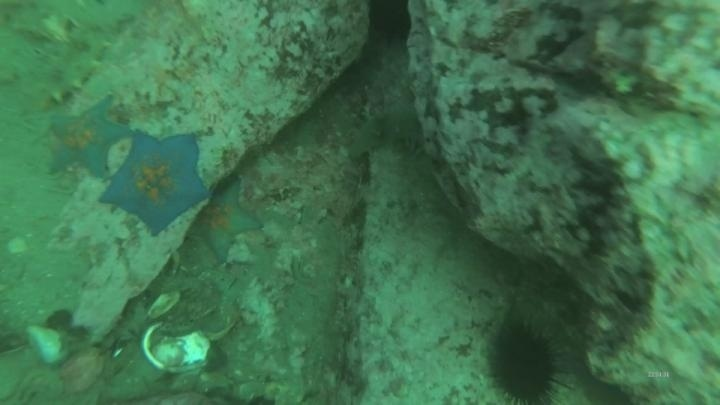echinus: (483, 319, 567, 404), (365, 1, 415, 47)
holothurian: (23, 19, 117, 111), (342, 103, 424, 163)
starfish: (98, 129, 211, 237), (41, 94, 133, 181), (197, 177, 264, 266)
